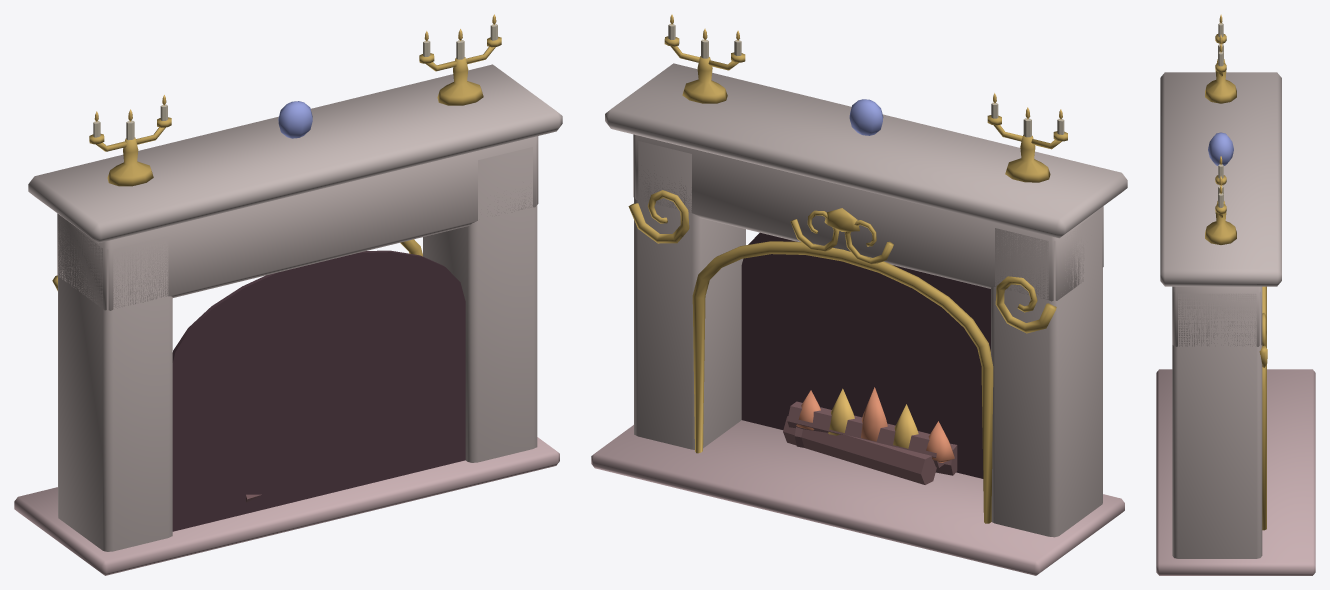
Rendered from fireplace_small.glb.
3 views of the same model, side by side, from view 1: azimuth 30°, elevation 25°; view 2: azimuth 150°, elevation 25°; view 3: azimuth 270°, elevation 25° (orthographic). The views are drawn at different scales.
Parts seen in each view (by area): view 1: fireplace_small; view 2: fireplace_small; view 3: fireplace_small.
Part boxes in pixels (<box>): fireplace_small: <box>14,14,562,575</box>; fireplace_small: <box>591,14,1127,575</box>; fireplace_small: <box>1156,14,1315,575</box>.
Size of what is drawn, in the model's own units: 1.8 by 1.6 by 0.6.
